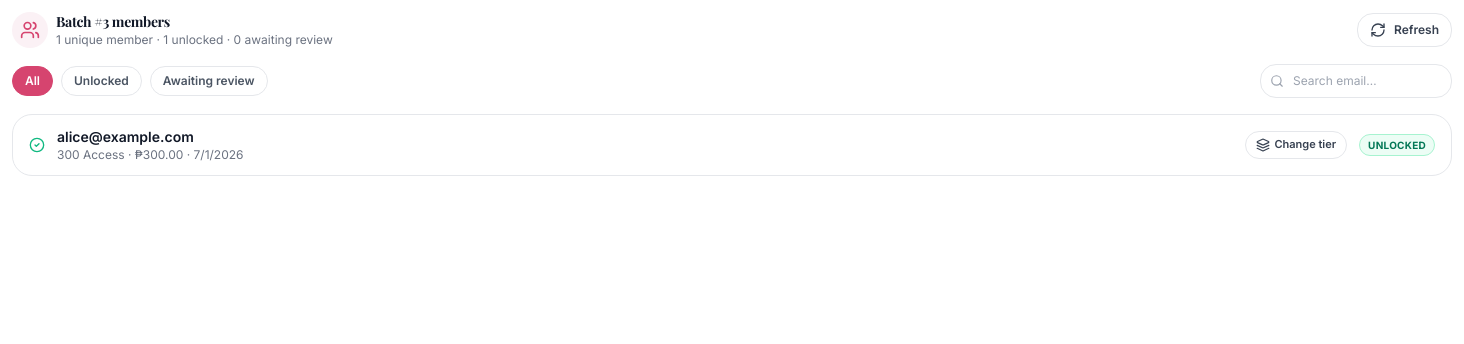
Test: BatchMembersPanel › surfaces an error and keeps the corrector open when the tier change fails
Click the button "Change tier" at (1296, 145), box x1=1245 y1=131 x2=1347 y2=159
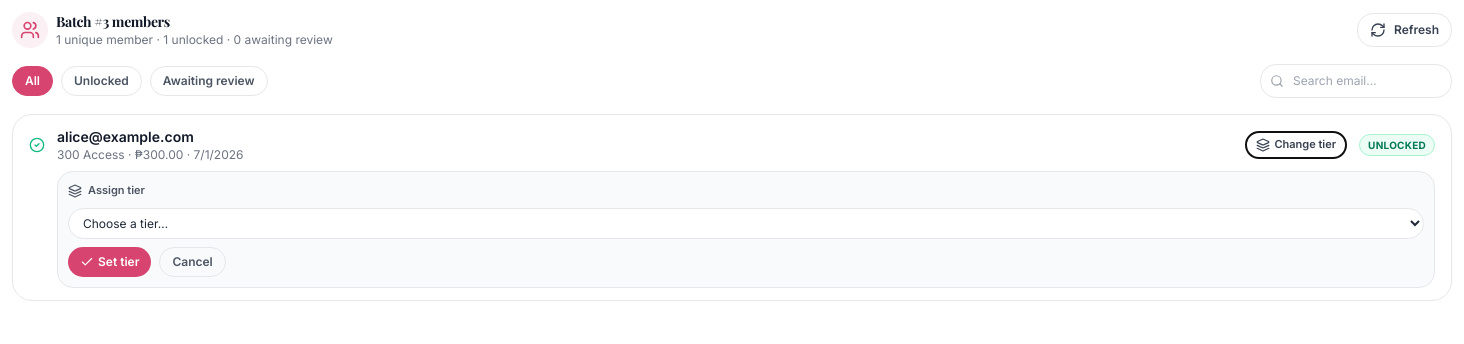
Select "300 Access —" in the dropdown at (746, 223), box x1=68 y1=208 x2=1424 y2=239
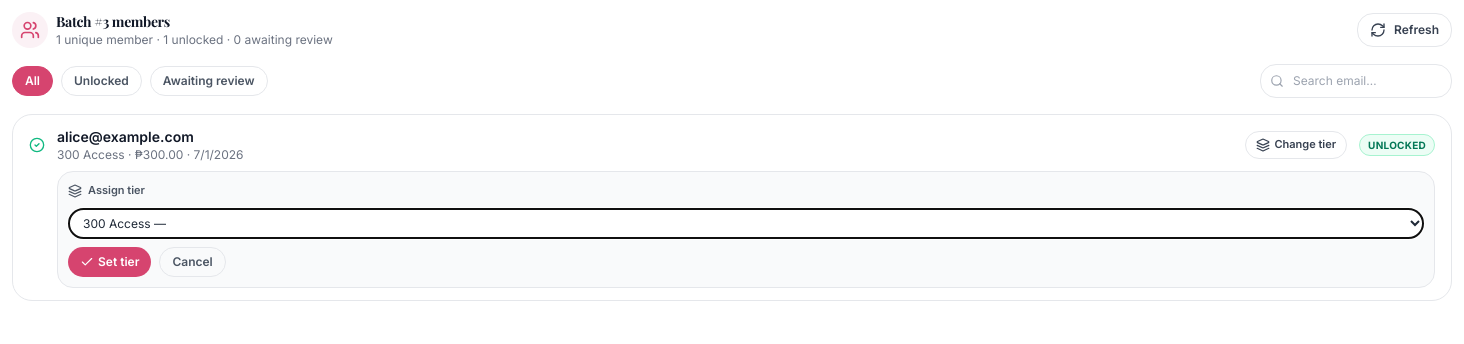
Click the button "Set tier" at (110, 262), box x1=68 y1=247 x2=151 y2=277
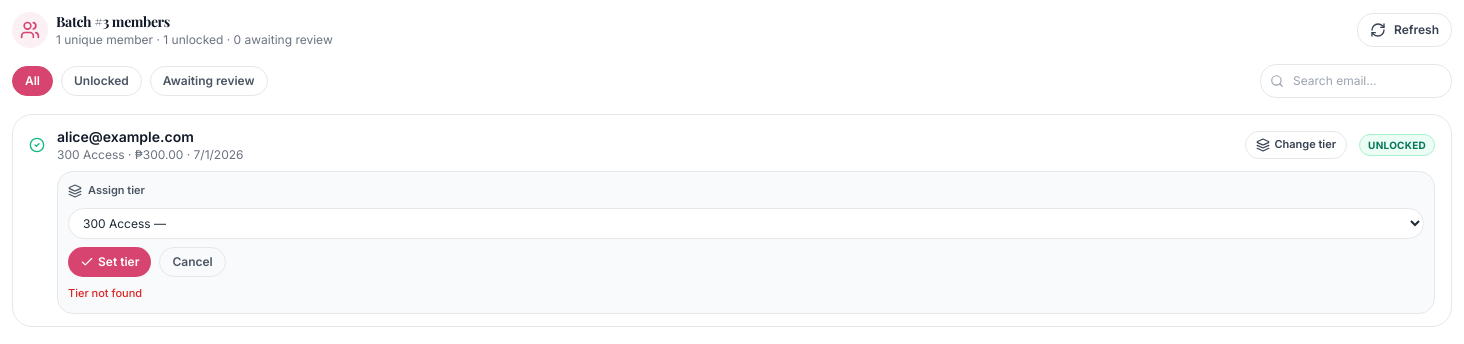
Result: the text "Tier not found" is shown at x1=68 y1=286 x2=142 y2=300
